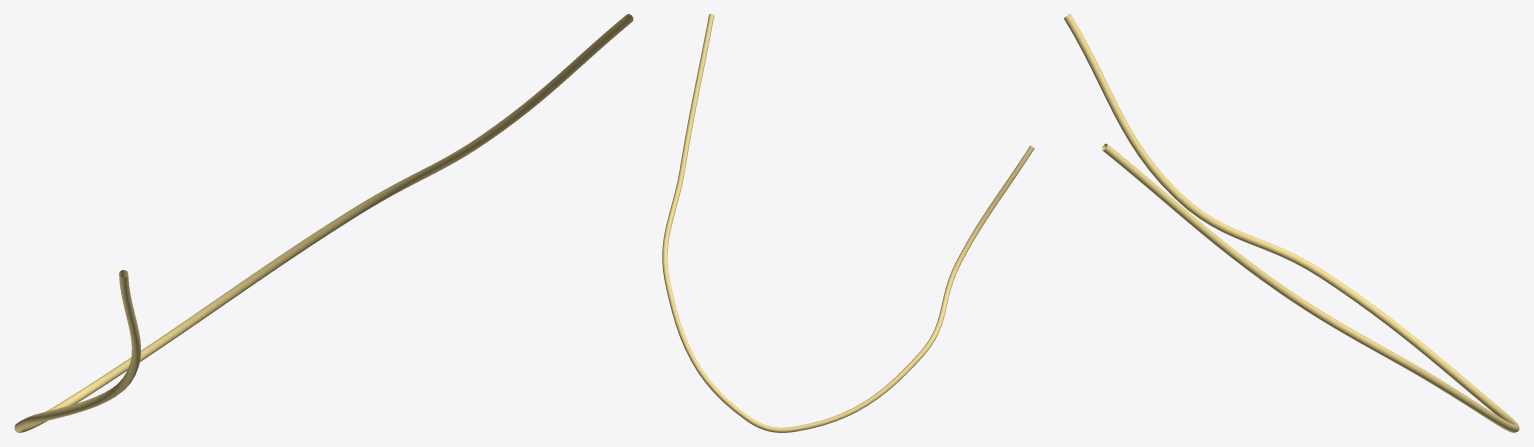
The picture shows the model from 3 angles, left to right: view 1: azimuth 30°, elevation 25°; view 2: azimuth 150°, elevation 25°; view 3: azimuth 270°, elevation 25°; orthographic projection. The views are drawn at different scales.
Parts seen in each view (by area): view 1: ZA_a74b30be7feff0bc; view 2: ZA_a74b30be7feff0bc; view 3: ZA_a74b30be7feff0bc.
Part boxes in pixels (box(x1,y1,x2,y2)): ZA_a74b30be7feff0bc: box(14, 14, 633, 432); ZA_a74b30be7feff0bc: box(662, 14, 1034, 432); ZA_a74b30be7feff0bc: box(1063, 14, 1519, 432).
Bounding box in the file's own units: 0.0666 × 0.0561 × 0.0544.
